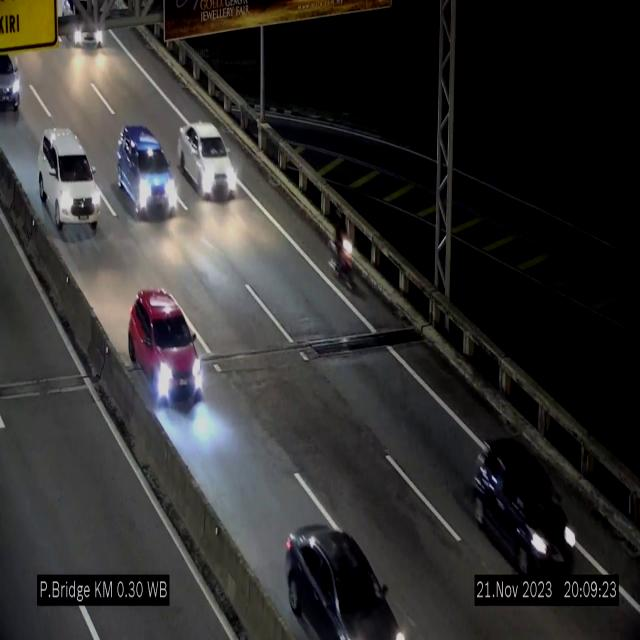Car: (471, 432, 578, 574), (286, 525, 406, 639), (128, 288, 202, 404), (38, 129, 98, 237), (117, 124, 178, 217), (178, 122, 238, 198), (0, 44, 28, 112)
Motorcycle: (327, 208, 356, 294)
